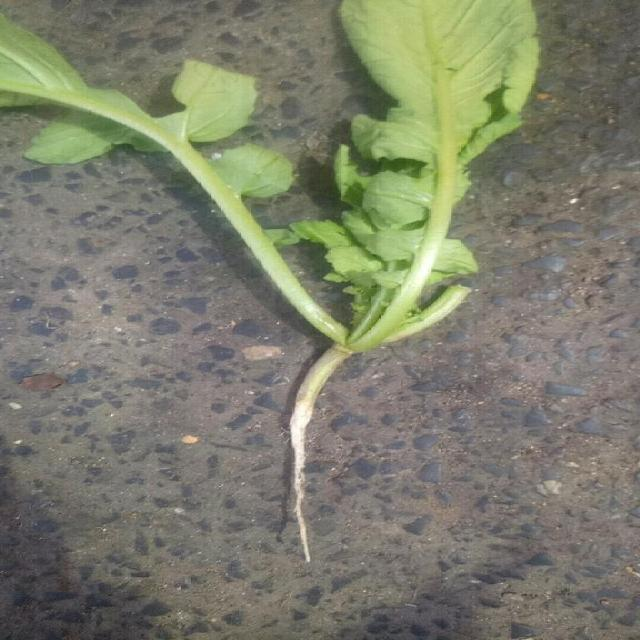-Kitchen waste - vegetable roots and leaves-: (5, 22, 339, 344), (336, 0, 538, 361)
